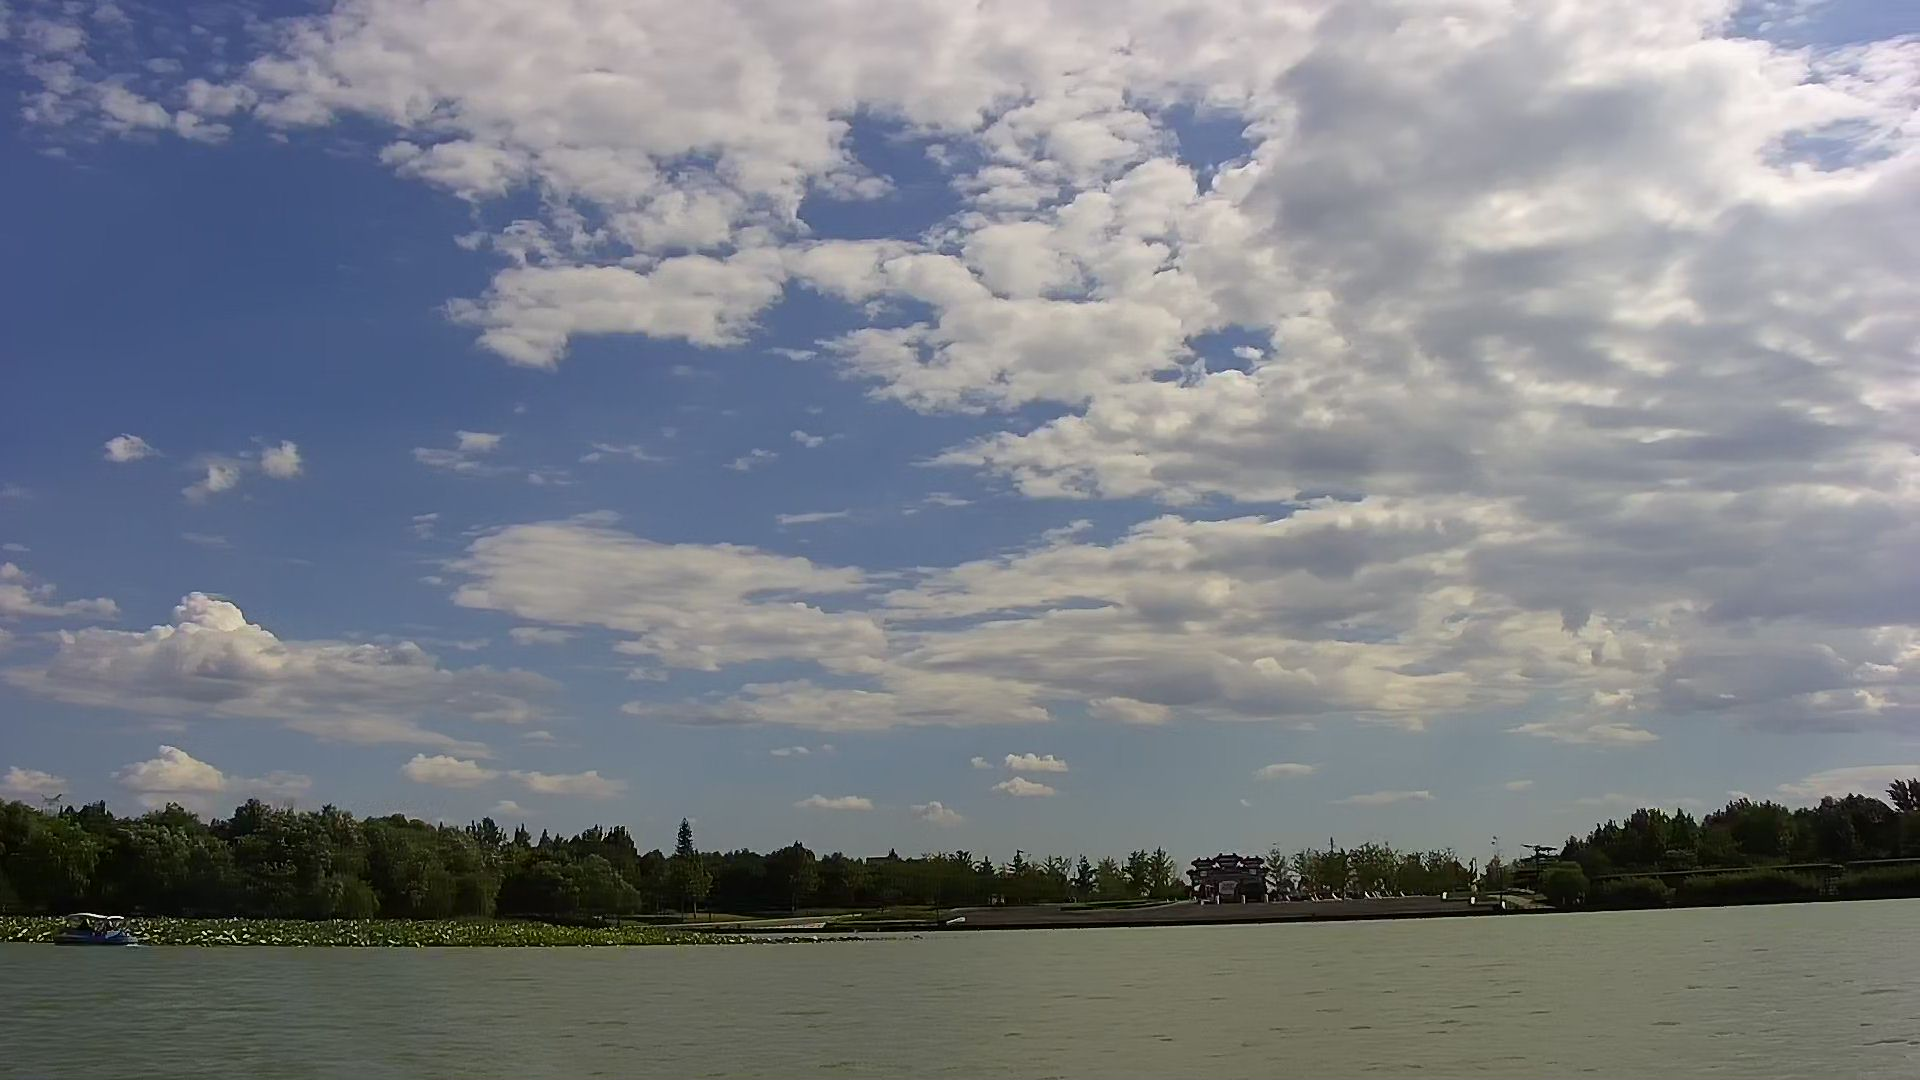boat: (55, 909, 144, 949)
harbor: (934, 889, 1585, 930)
